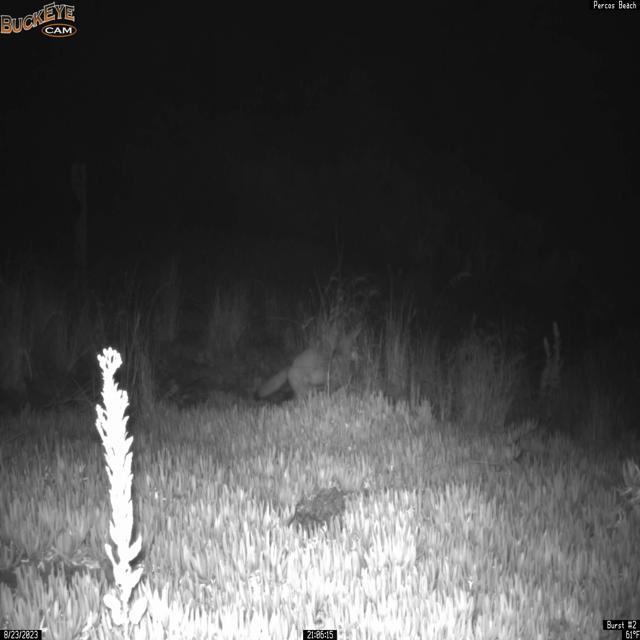coyote: (253, 322, 364, 402)
